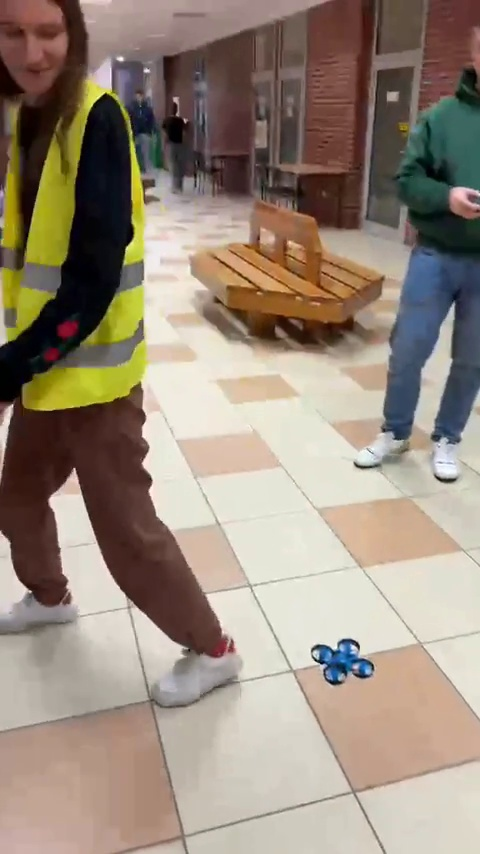drone: (310, 638, 373, 686)
no vest: (385, 16, 480, 492), (161, 96, 200, 189), (128, 88, 157, 172)
vest: (3, 1, 245, 709)
